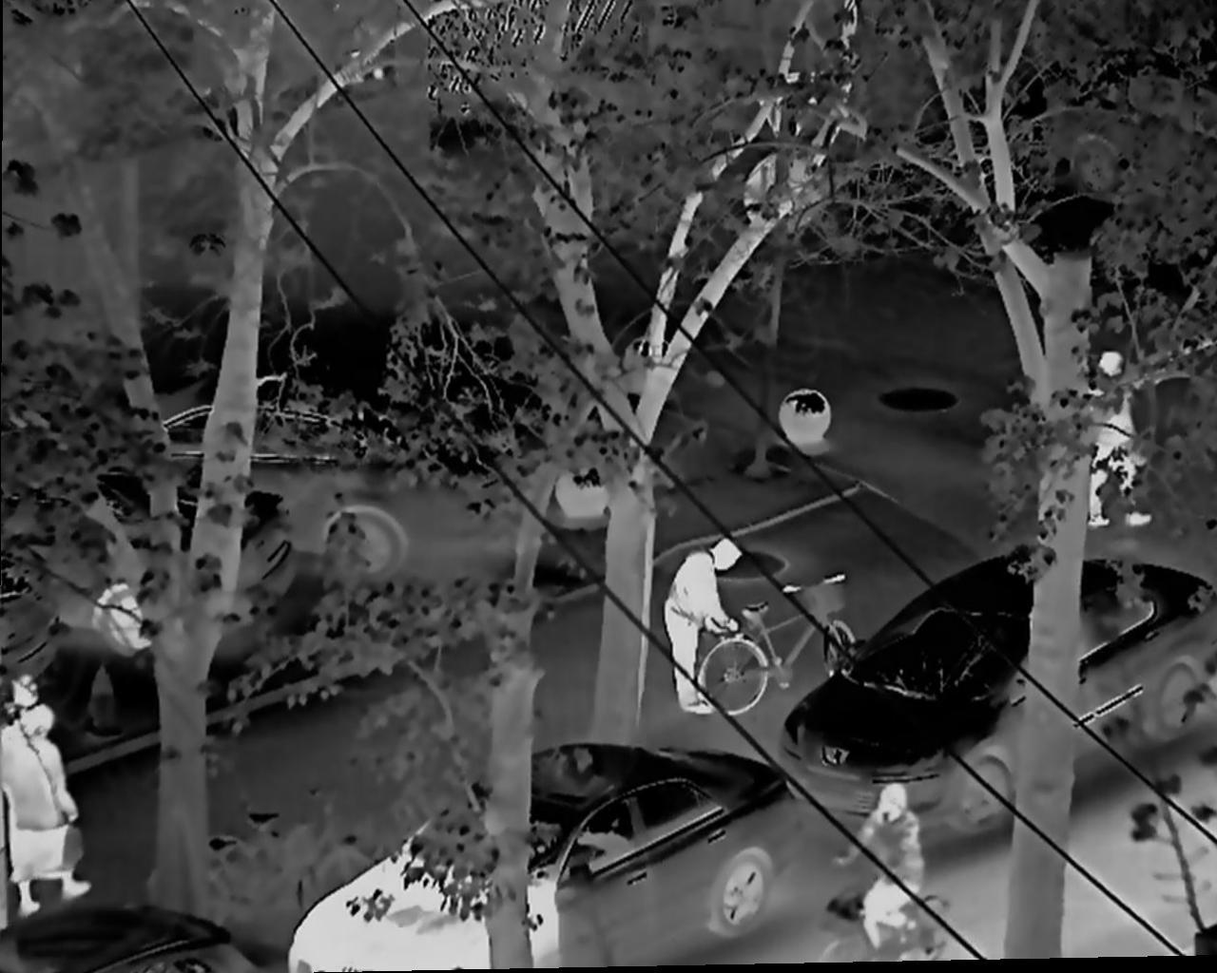person: (834, 783, 925, 948), (664, 536, 745, 714), (1091, 392, 1152, 525)
